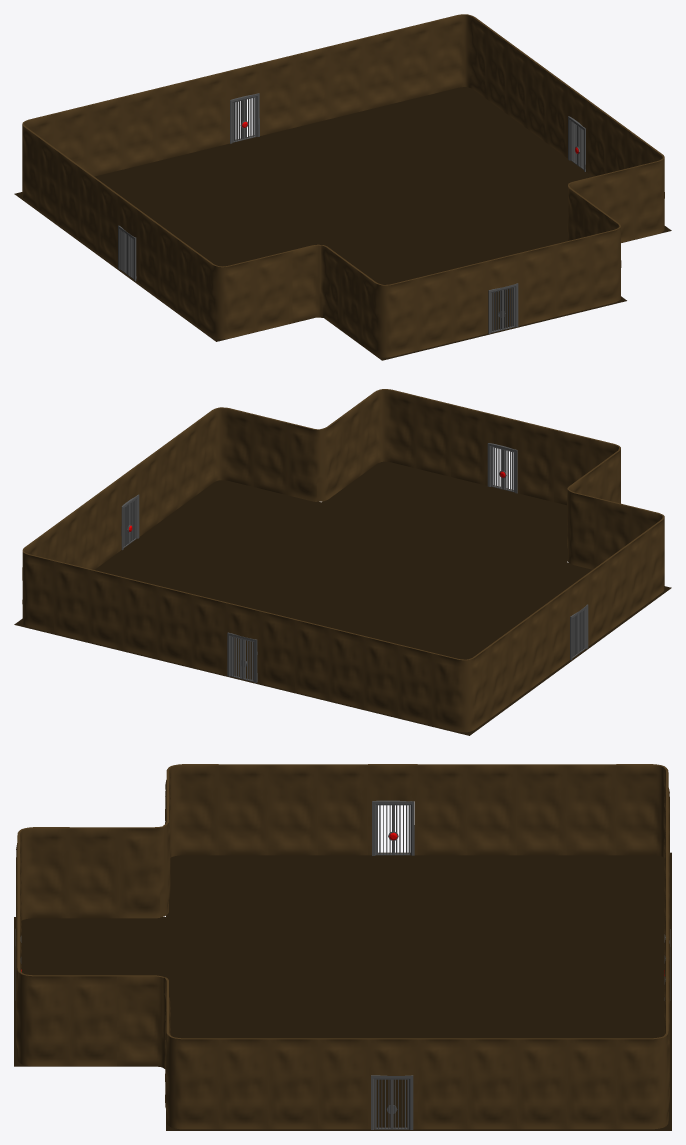
The model's file is room_4_FINAL.fbx.
3 views of the same model, one above another, from view 1: azimuth 30°, elevation 25°; view 2: azimuth 150°, elevation 25°; view 3: azimuth 270°, elevation 25° (orthographic). The views are drawn at different scales.
Visible parts, largest first — view 1: FLOOR, DOORWAY (×4), CORNER_29, CORNER_28, CORNER_26, CORNER_31, WALL112, WALL108, CORNER_24, CORNER_25, WALL127, WALL126 (+30 smaller); view 2: FLOOR, DOORWAY (×4), CORNER_27, CORNER_30, CORNER_24, CORNER_25, WALL113, CORNER_26, WALL115, WALL126, WALL114, WALL106 (+32 smaller); view 3: FLOOR, DOORWAY (×2), CORNER_25, CORNER_24, CORNER_26, CORNER_31, WALL138, WALL135, WALL132, WALL130, WALL123, WALL119 (+16 smaller).
Boxes of the visible parts, x1=… form: FLOOR: x1=14, y1=87, x2=671, y2=360; DOORWAY (×4): x1=118, y1=63, x2=588, y2=333; CORNER_29: x1=360, y1=272, x2=417, y2=357; CORNER_28: x1=197, y1=253, x2=254, y2=339; CORNER_26: x1=433, y1=14, x2=488, y2=99; CORNER_31: x1=288, y1=244, x2=341, y2=329; WALL112: x1=295, y1=46, x2=330, y2=127; WALL108: x1=123, y1=88, x2=158, y2=169; CORNER_24: x1=632, y1=144, x2=664, y2=239; CORNER_25: x1=589, y1=212, x2=621, y2=308; WALL127: x1=520, y1=244, x2=554, y2=325; WALL126: x1=554, y1=236, x2=589, y2=316; FLOOR: x1=14, y1=461, x2=671, y2=735; DOORWAY (×4): x1=118, y1=412, x2=588, y2=683; CORNER_27: x1=432, y1=646, x2=489, y2=732; CORNER_30: x1=288, y1=416, x2=343, y2=501; CORNER_24: x1=198, y1=407, x2=254, y2=492; CORNER_25: x1=361, y1=389, x2=416, y2=474; WALL113: x1=122, y1=577, x2=157, y2=658; CORNER_26: x1=22, y1=537, x2=54, y2=632; WALL115: x1=54, y1=560, x2=88, y2=641; WALL126: x1=416, y1=396, x2=451, y2=476; WALL114: x1=88, y1=569, x2=123, y2=649; WALL106: x1=260, y1=611, x2=295, y2=691; FLOOR: x1=14, y1=852, x2=671, y2=1130; DOORWAY (×2): x1=368, y1=764, x2=417, y2=1129; CORNER_25: x1=16, y1=954, x2=69, y2=1066; CORNER_24: x1=165, y1=1017, x2=218, y2=1129; CORNER_26: x1=616, y1=1017, x2=669, y2=1129; CORNER_31: x1=119, y1=807, x2=170, y2=918; WALL138: x1=218, y1=764, x2=268, y2=855; WALL135: x1=566, y1=764, x2=616, y2=855; WALL132: x1=417, y1=764, x2=467, y2=855; WALL130: x1=69, y1=827, x2=119, y2=918; WALL123: x1=218, y1=1038, x2=268, y2=1129; WALL119: x1=417, y1=1038, x2=467, y2=1129.
Bounding box in the file's own units: 1324 × 200 × 1324.
